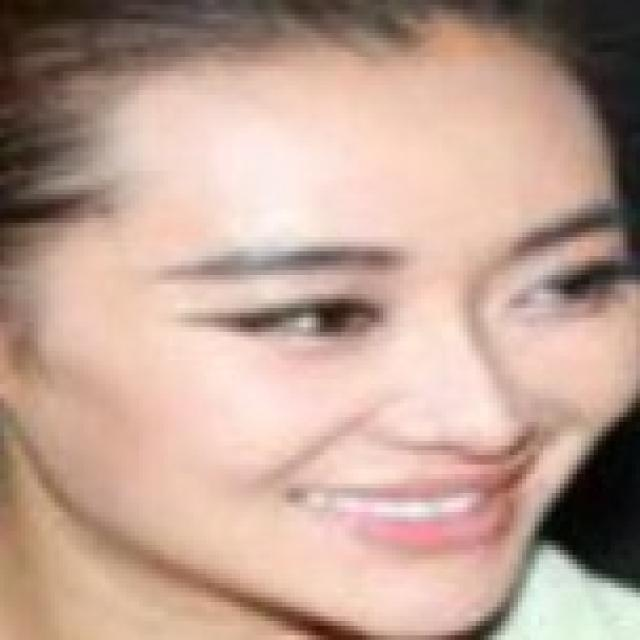no_mask: (56, 61, 614, 634)
